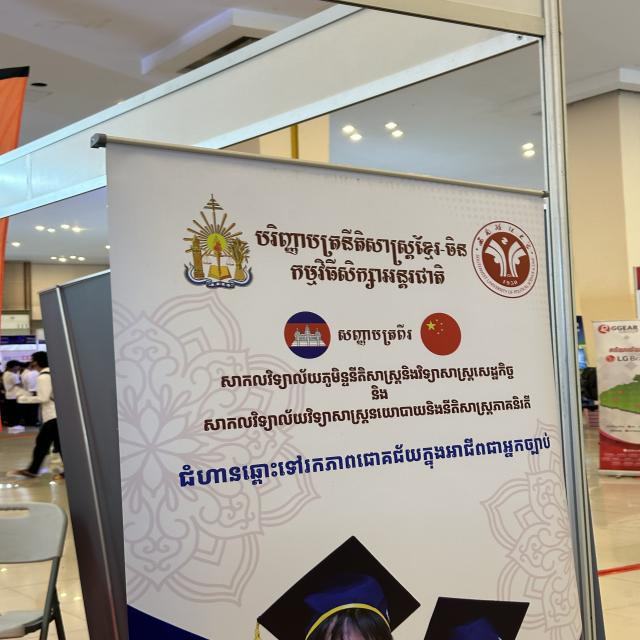Yolov11_80vkh: (177, 424, 555, 493), (188, 388, 534, 440), (203, 357, 522, 391), (250, 217, 468, 264), (278, 259, 454, 297), (333, 318, 413, 347), (357, 390, 398, 405)
